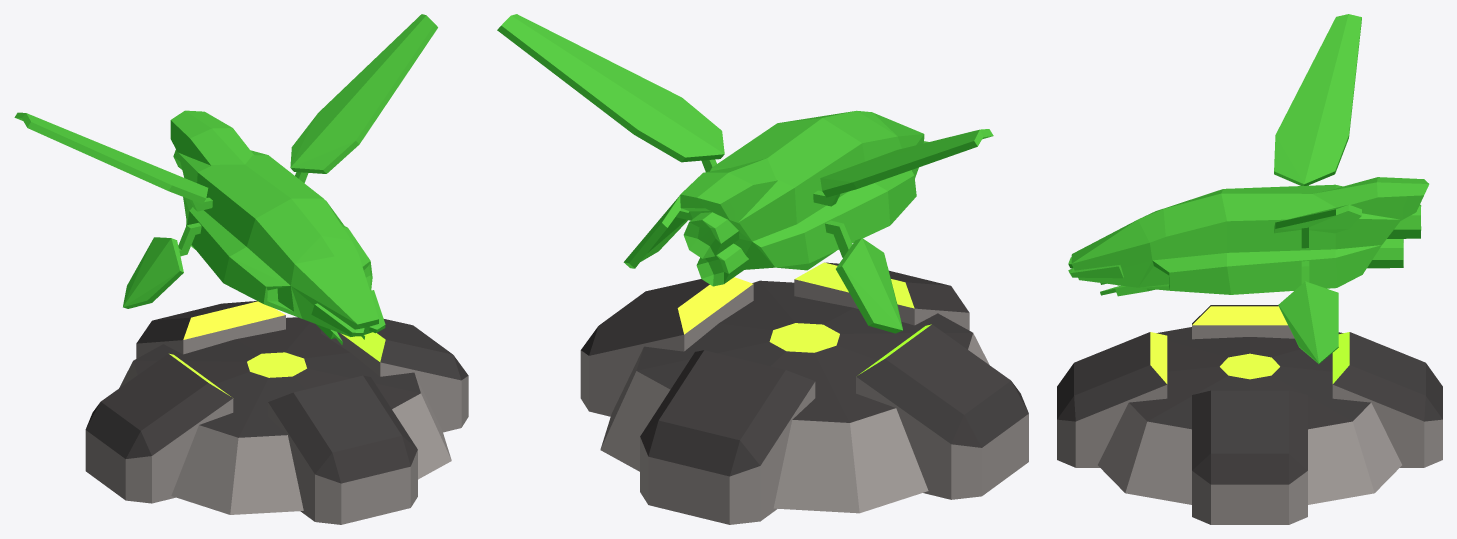
File: scifi_scifi-hologram-ship.fbx
The picture shows the model from 3 angles, left to right: view 1: azimuth 30°, elevation 25°; view 2: azimuth 150°, elevation 25°; view 3: azimuth 270°, elevation 25°; orthographic projection. The views are drawn at different scales.
Visible parts, largest first — view 1: scifi_scifi_hologram_ship; view 2: scifi_scifi_hologram_ship; view 3: scifi_scifi_hologram_ship.
Boxes of the visible parts, bbox=[...] form: scifi_scifi_hologram_ship: bbox=[14, 14, 468, 524]; scifi_scifi_hologram_ship: bbox=[497, 14, 1028, 524]; scifi_scifi_hologram_ship: bbox=[1057, 14, 1442, 524].
Bounding box in the file's own units: 200 × 159 × 167.
